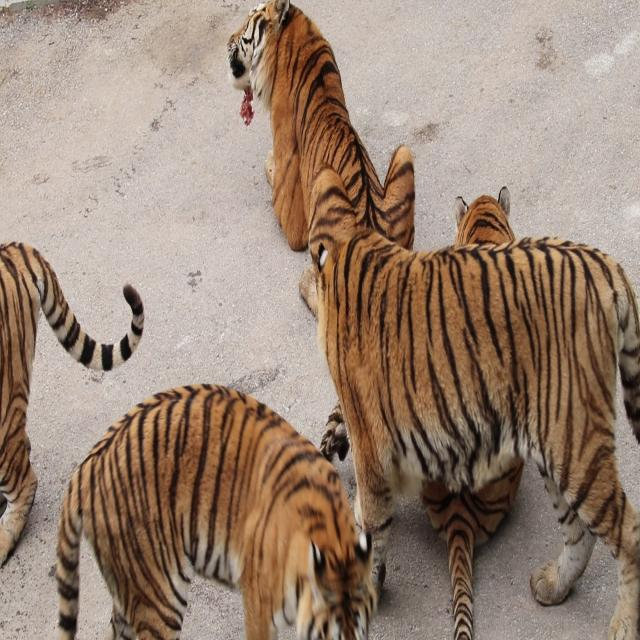Tiger: (301, 211, 637, 639), (55, 382, 378, 640), (227, 0, 416, 321), (0, 240, 144, 568), (422, 186, 524, 640)
